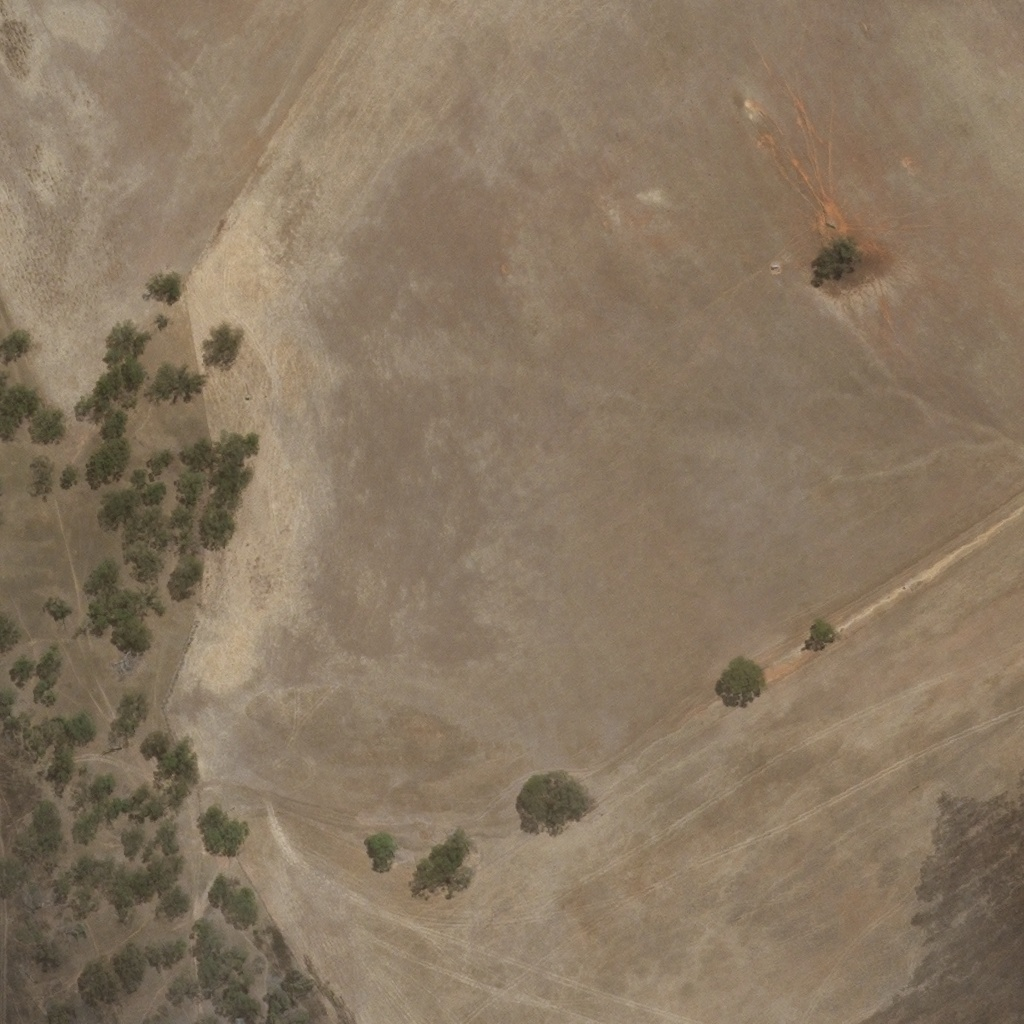4 un-classified: (245, 394, 251, 399)
